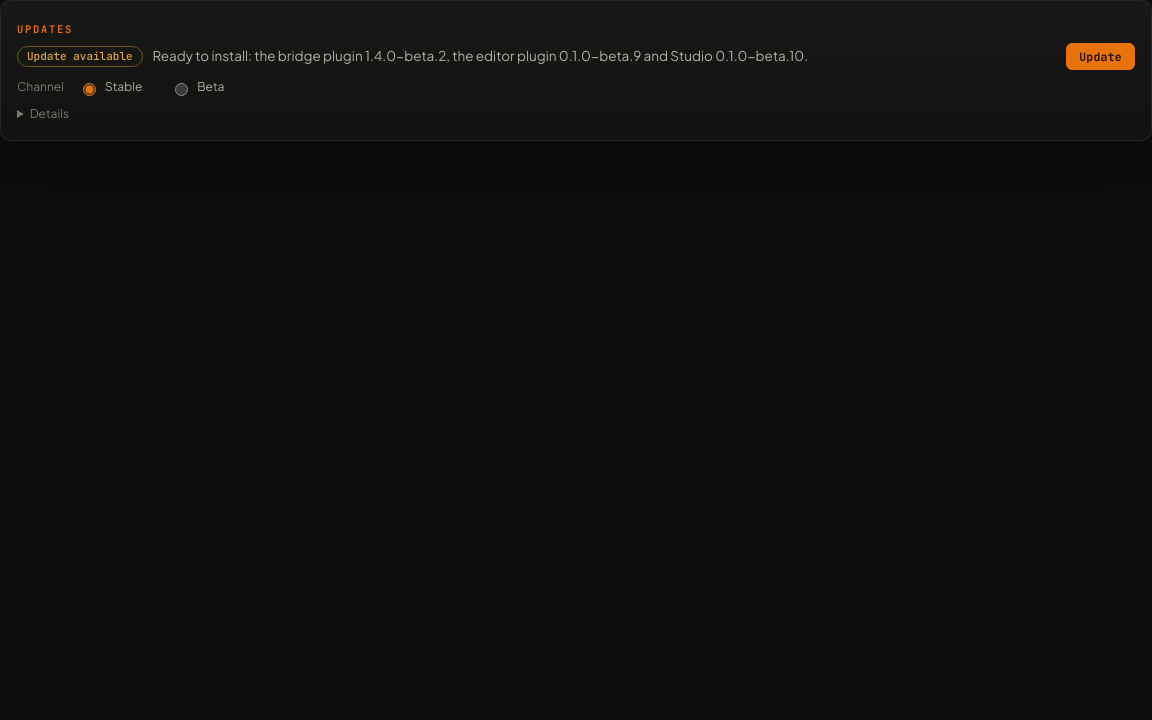
Scenario: updates › shows one Update button that runs every step in order, and stops at the first failure
Expected: the text "Update available" is shown, [17, 46, 143, 67]
Click the button "Update".
click(1101, 56)  # box [1066, 43, 1135, 70]
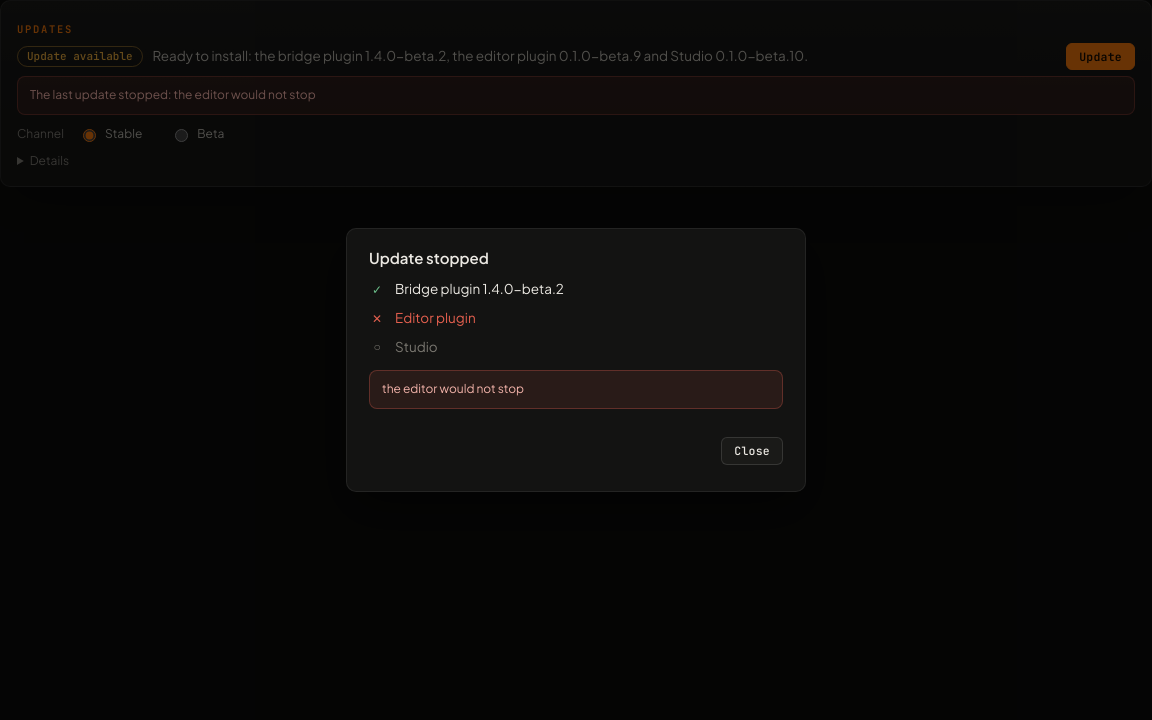
Result: the text "the editor would not stop" is shown at [369, 370, 783, 409]
Result: the dialog "Update stopped" is shown
Click the button "Close".
click(752, 451)  # box [721, 437, 783, 465]
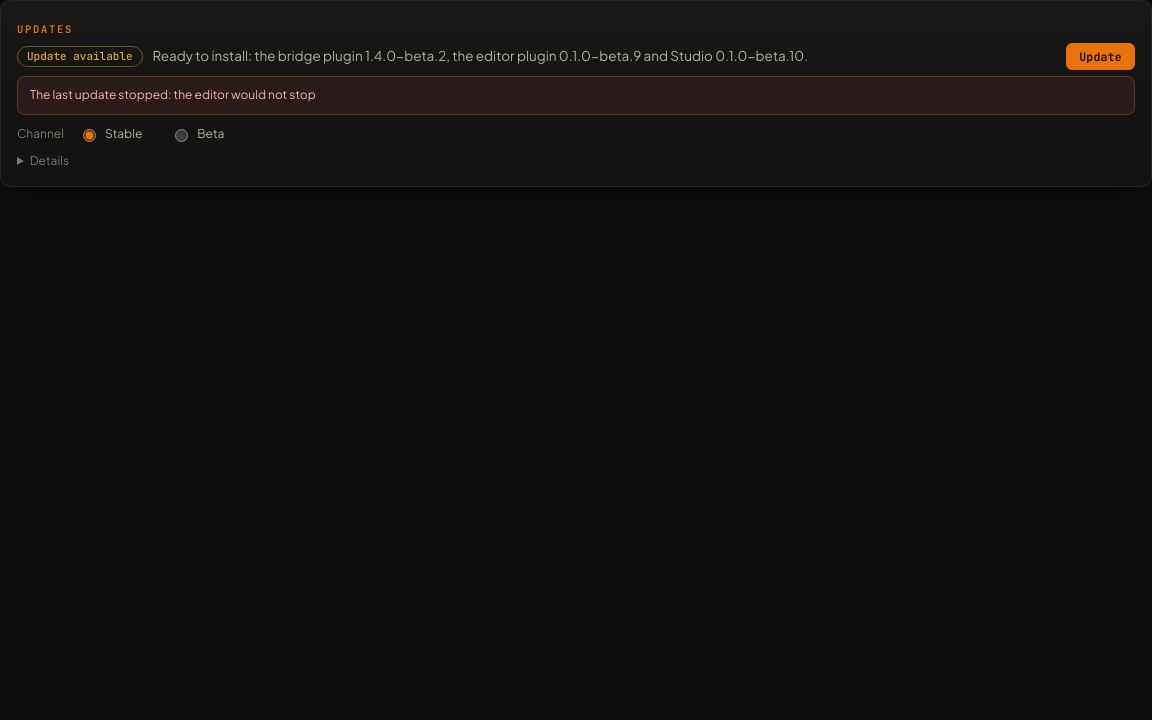
Result: the dialog is gone
